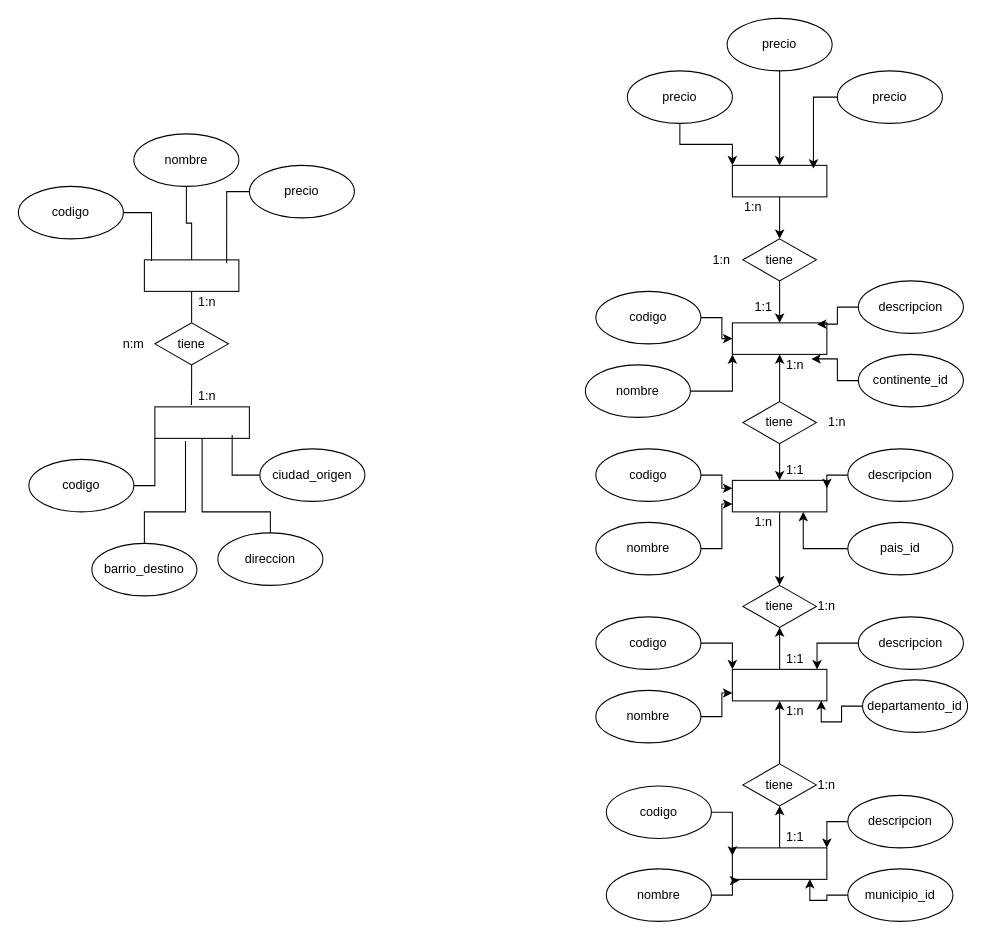
Some shapes in this 986 by 940 pixel diagram are drawn without their labels. Here are the shapes that lost their labels. From the top down, the box of each, then its label:
(731, 164, 827, 197): continente
(143, 259, 239, 291): producto
(731, 322, 827, 354): pais
(154, 406, 249, 438): pedido
(731, 479, 827, 512): departamento
(731, 668, 827, 701): municipio
(731, 847, 827, 879): barrio
